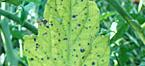Tomato Septoria leaf spot: (8, 0, 141, 66)
